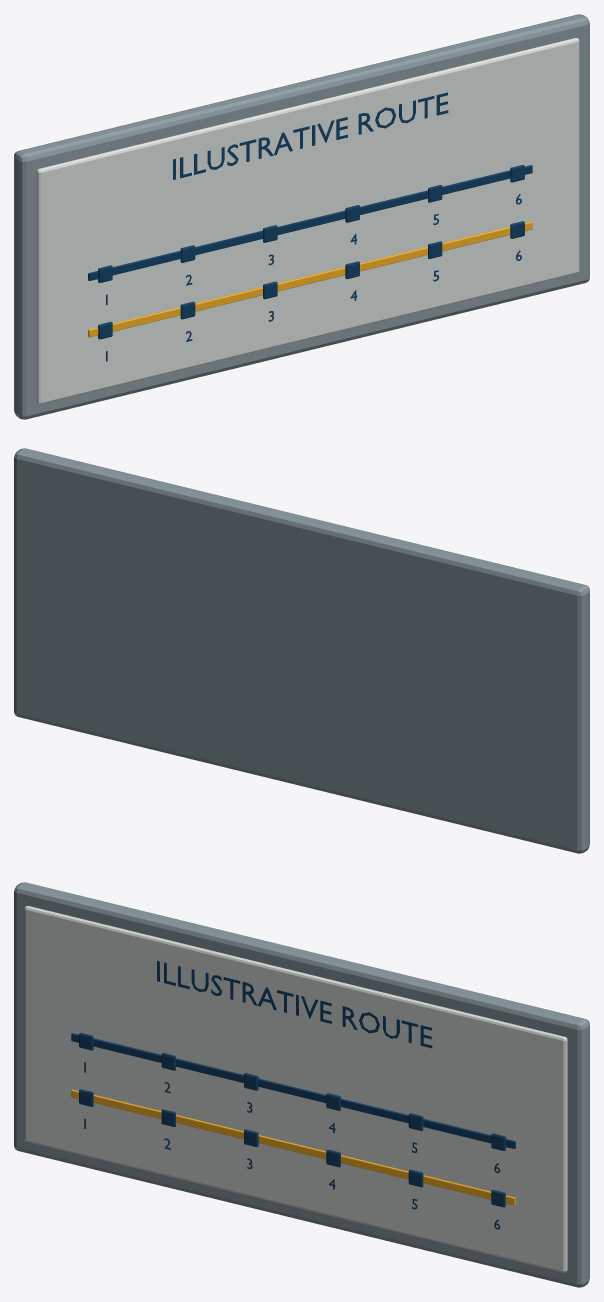
3 views of the same model, one above another, from view 1: azimuth 30°, elevation 25°; view 2: azimuth 150°, elevation 25°; view 3: azimuth 330°, elevation 25° (orthographic).
Parts seen in each view (by area): view 1: PANEL_Inlay, PANEL_Frame, ROUTE_Line.001, ROUTE_Line, EDITABLE_Title; view 2: PANEL_Frame; view 3: PANEL_Inlay, PANEL_Frame, ROUTE_Line.001, ROUTE_Line, EDITABLE_Title.
Boxes of the visible parts, x1=… form: PANEL_Inlay: x1=36, y1=38, x2=579, y2=404; PANEL_Frame: x1=14, y1=14, x2=589, y2=419; ROUTE_Line.001: x1=88, y1=221, x2=532, y2=337; ROUTE_Line: x1=88, y1=165, x2=532, y2=280; EDITABLE_Title: x1=173, y1=92, x2=448, y2=179; PANEL_Frame: x1=14, y1=448, x2=589, y2=853; PANEL_Inlay: x1=24, y1=906, x2=567, y2=1272; PANEL_Frame: x1=14, y1=882, x2=589, y2=1287; ROUTE_Line.001: x1=71, y1=1089, x2=515, y2=1205; ROUTE_Line: x1=71, y1=1033, x2=515, y2=1148; EDITABLE_Title: x1=157, y1=960, x2=432, y2=1048.
Bounding box in the file's own units: 1.8 × 0.8 × 0.0873.
